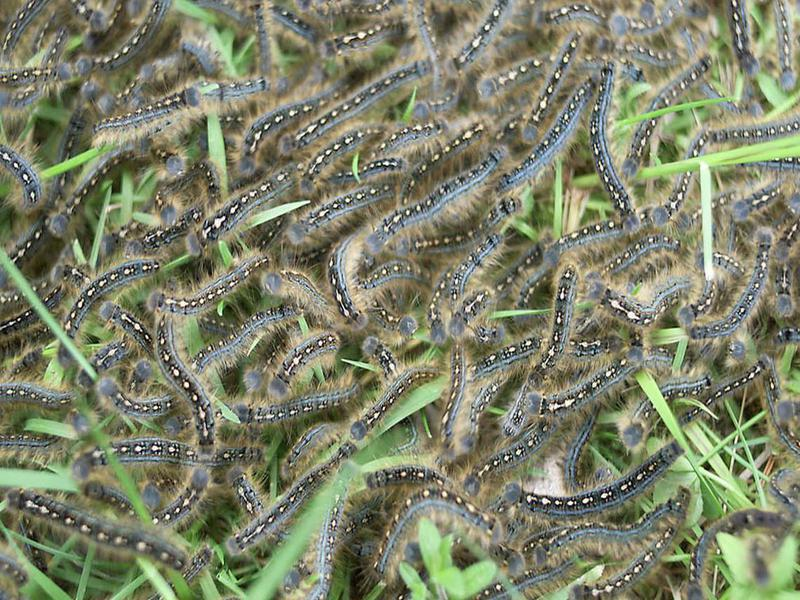Armyworms: (186, 204, 650, 374), (331, 454, 732, 581), (17, 34, 375, 154), (46, 333, 270, 505)
